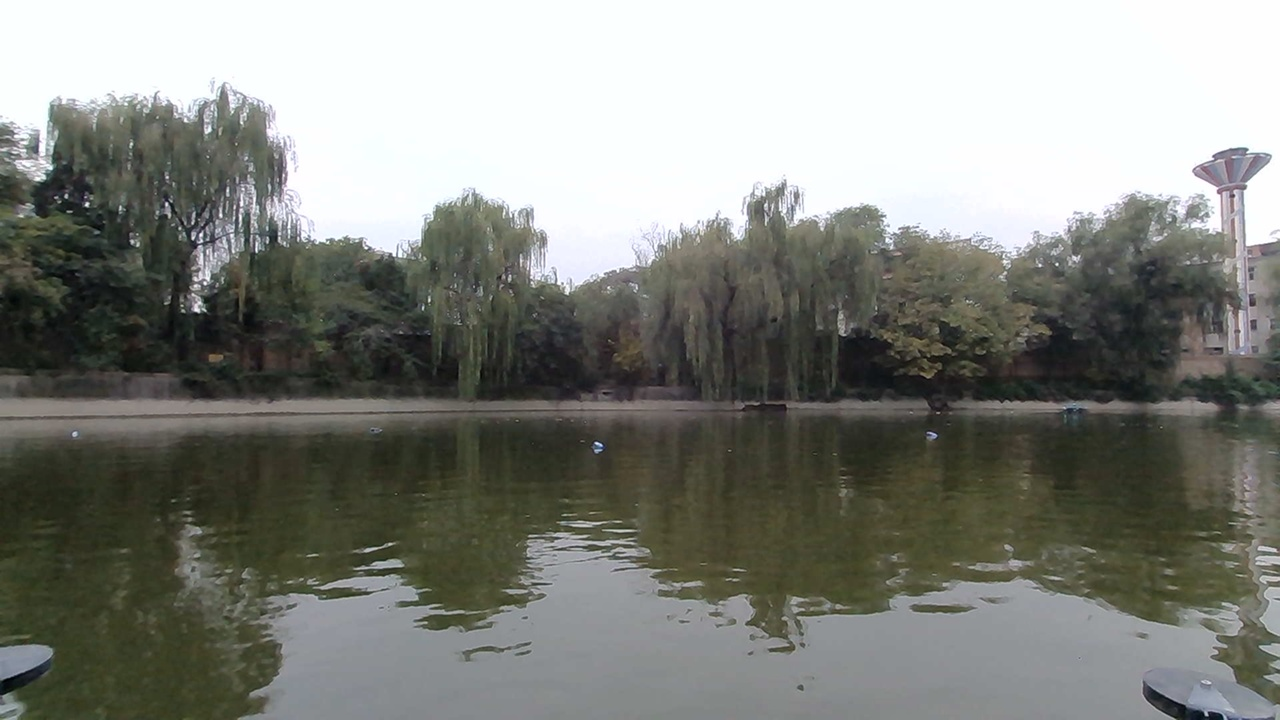bottle: (352, 415, 388, 446), (583, 432, 622, 460), (60, 421, 101, 444), (916, 424, 947, 445)
